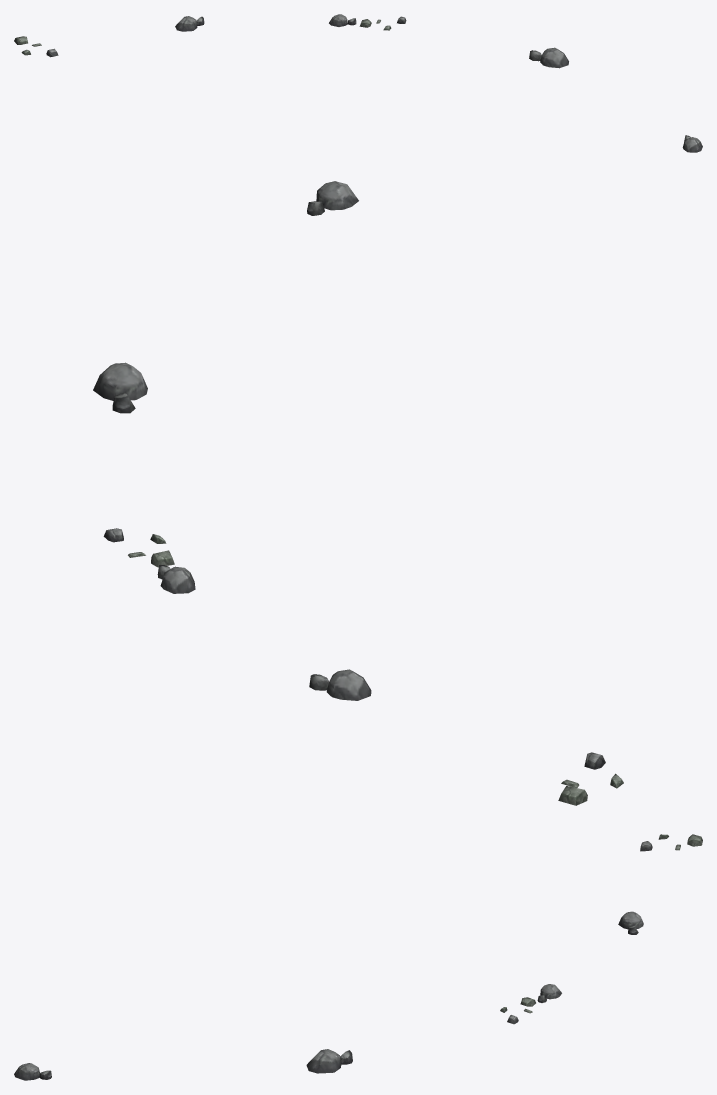
Rendered from Area_13_10.fbx.
The picture shows the model from 3 angles, top to bottom: view 1: azimuth 30°, elevation 25°; view 2: azimuth 150°, elevation 25°; view 3: azimuth 270°, elevation 25°; orthographic projection. The views are drawn at different scales.
Visible parts, largest first — view 1: Area_13_10; view 2: Area_13_10; view 3: Area_13_10.
Boxes of the visible parts, x1=… form: Area_13_10: x1=14, y1=14, x2=702, y2=152; Area_13_10: x1=93, y1=181, x2=623, y2=805; Area_13_10: x1=14, y1=834, x2=702, y2=1080.
Size of the model in its own units: 3624 by 119 by 4317.
